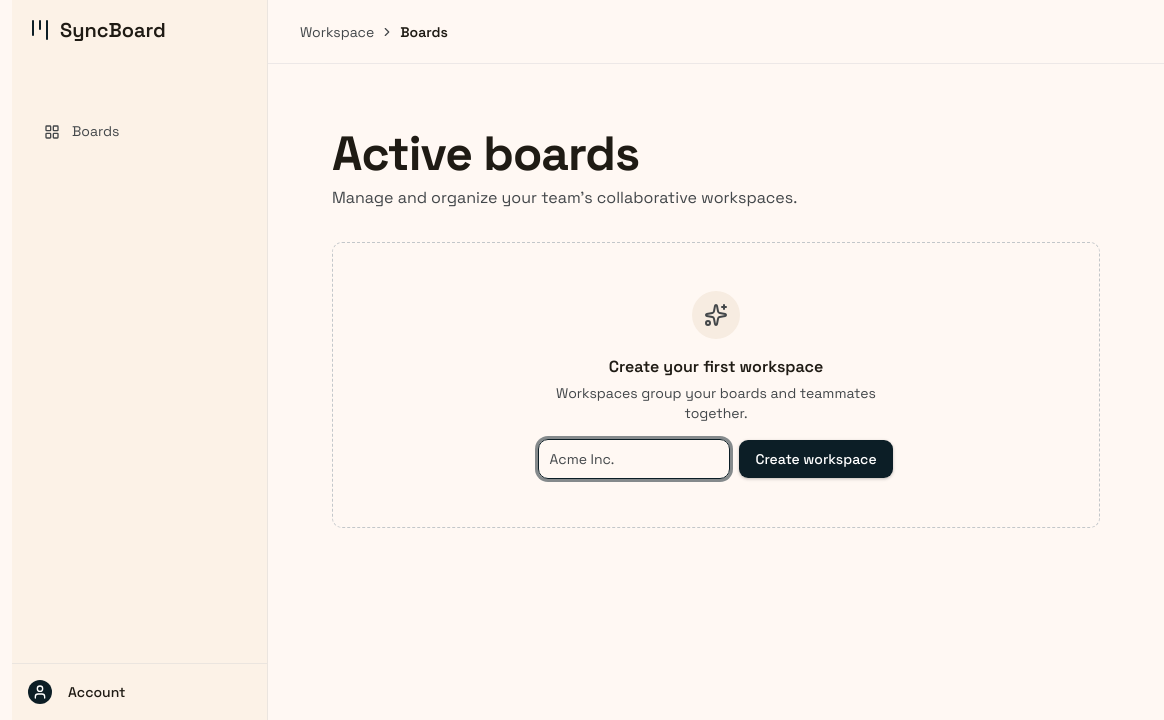
DashboardPage › creates a workspace from the empty-state prompt
The image size is (1164, 720).
expect the heading "Create your first workspace" is shown: met, box top-left (609, 355), bottom-right (823, 379)
In the field named "Workspace name": (634, 459) top-left (538, 439), bottom-right (730, 479), type "Design Team"
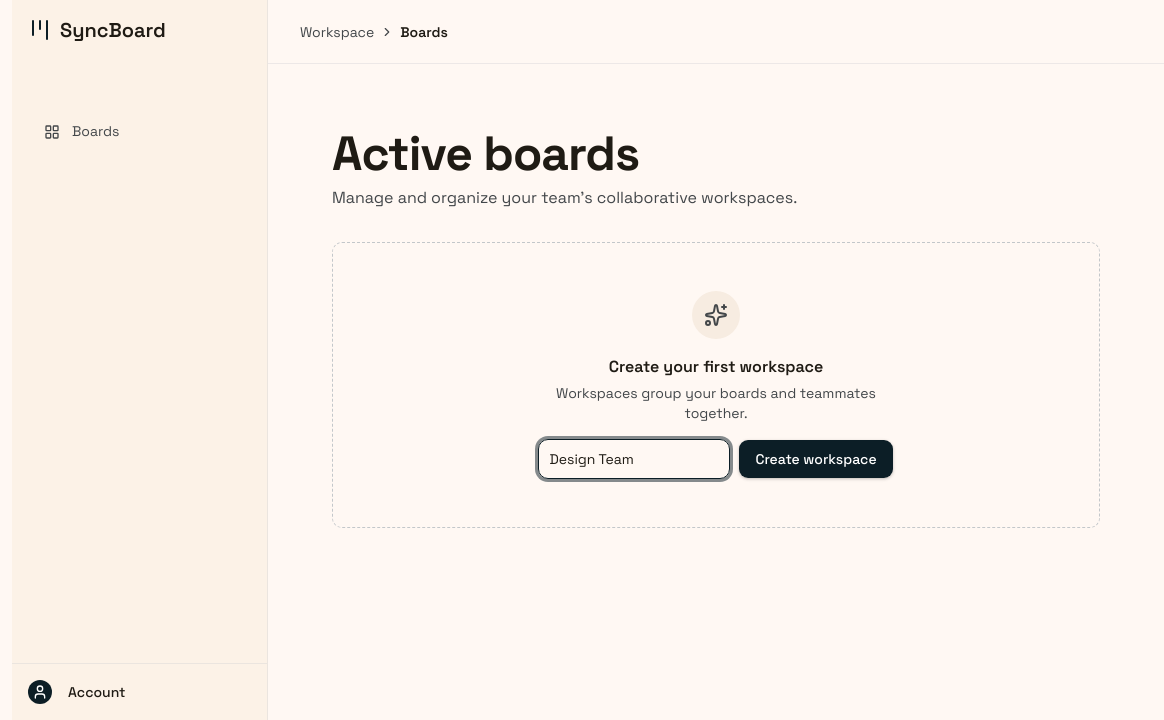
Click the button "Create workspace": (816, 459) top-left (738, 439), bottom-right (894, 479)
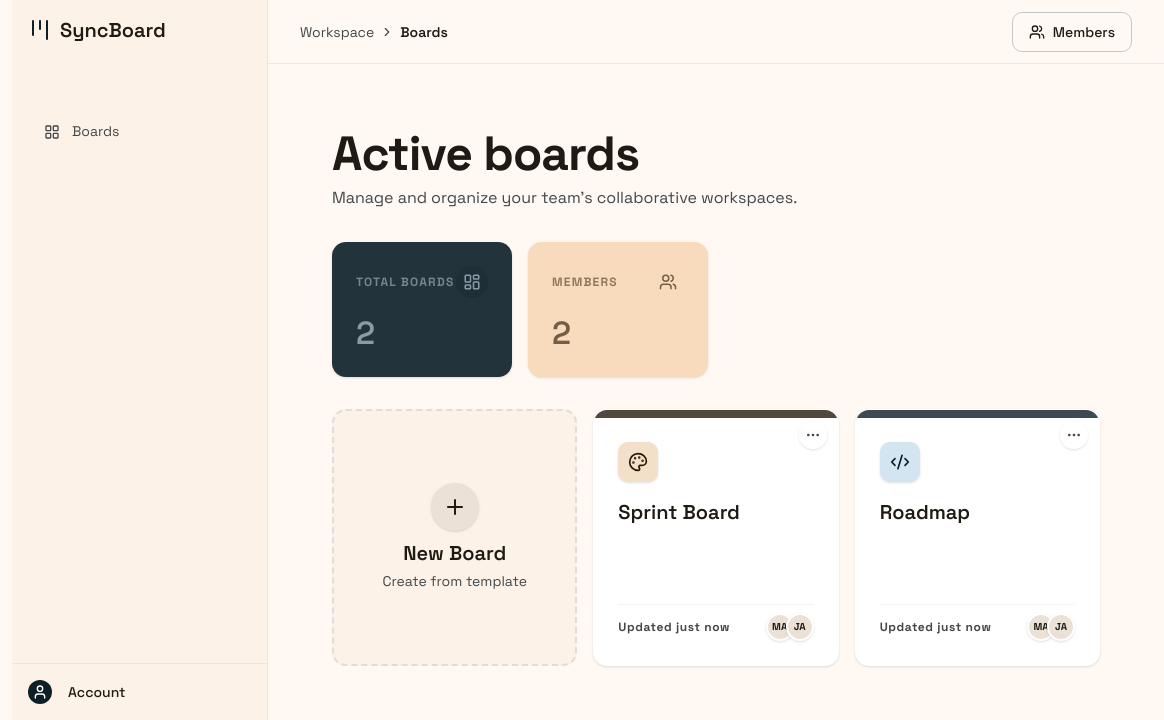
expect the button "Members" is shown: met, box top-left (1012, 12), bottom-right (1132, 52)
